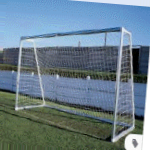goals: (15, 26, 137, 140)
